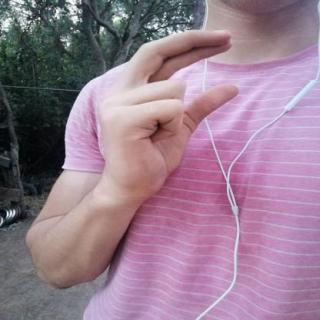DHELL: (85, 21, 247, 195)
